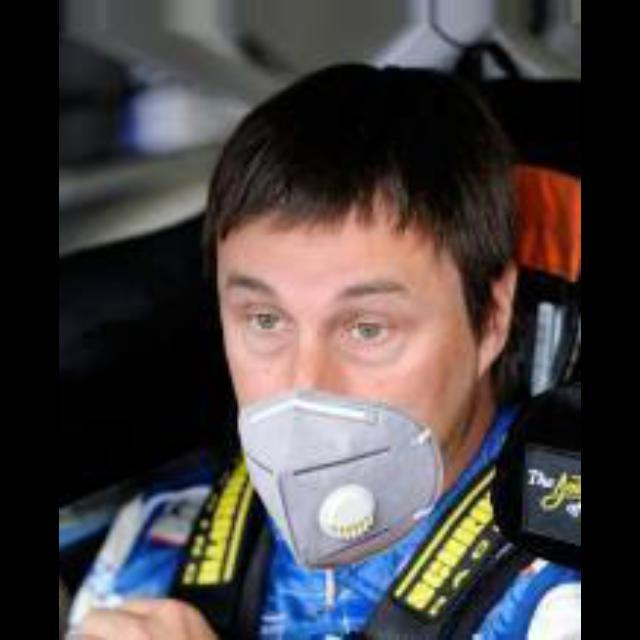suspicion: (199, 109, 565, 572)
